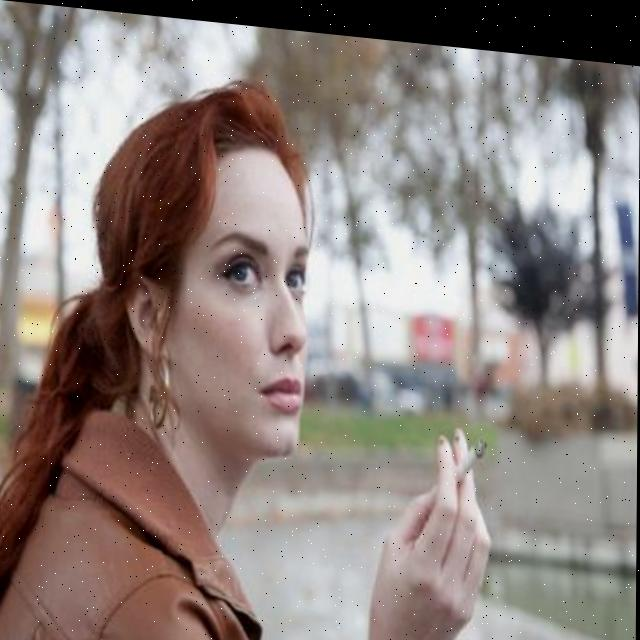cigarette: (457, 427, 490, 479)
